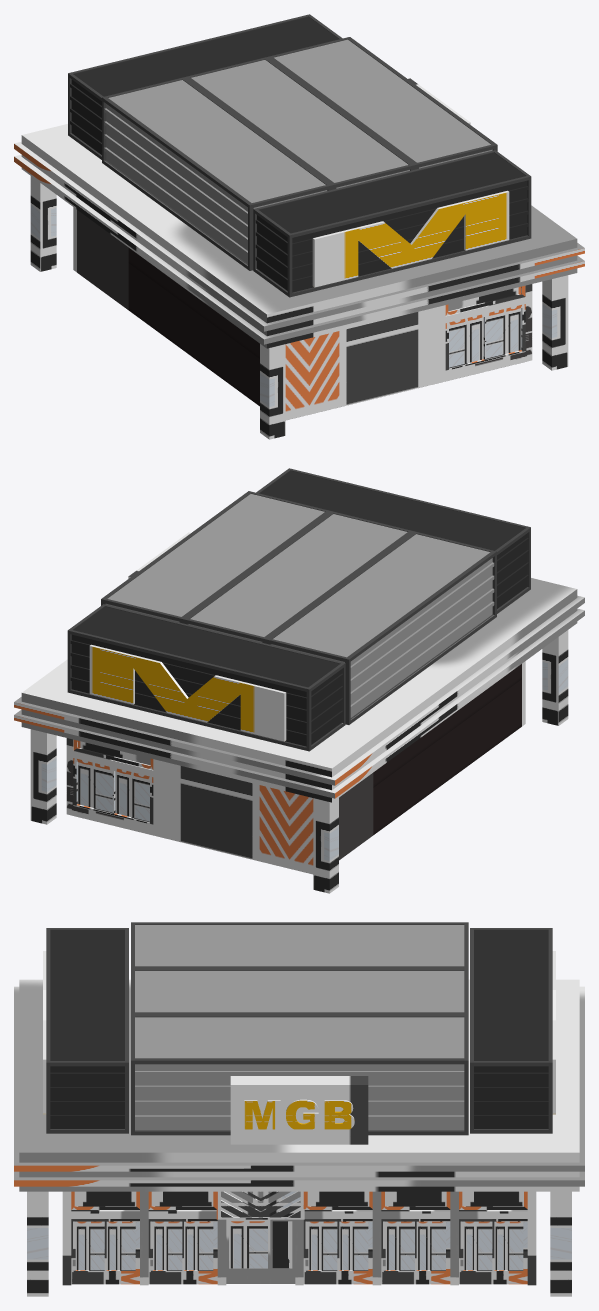
The picture shows the model from 3 angles, top to bottom: view 1: azimuth 30°, elevation 25°; view 2: azimuth 150°, elevation 25°; view 3: azimuth 270°, elevation 25°; orthographic projection. The views are drawn at different scales.
Parts seen in each view (by area): view 1: 貨櫃箱, 屋頂, 左側牆, 造型牆, 室內地板.002; view 2: 貨櫃箱, 屋頂, 右側牆, 造型牆, 室內地板.002; view 3: 貨櫃箱, 屋頂, 正門指示牌.004, 正門口, 正門指示牌.001, 右側牆, 左側牆.
Boxes of the visible parts, x1,y1,x2,y2 form: 貨櫃箱: [68, 14, 531, 297]; 屋頂: [14, 78, 584, 439]; 左側牆: [285, 284, 532, 420]; 造型牆: [128, 248, 259, 406]; 室內地板.002: [77, 210, 128, 309]; 貨櫃箱: [67, 468, 530, 751]; 屋頂: [14, 532, 584, 893]; 右側牆: [66, 738, 313, 874]; 造型牆: [373, 664, 521, 834]; 室內地板.002: [339, 773, 373, 860]; 貨櫃箱: [46, 922, 552, 1135]; 屋頂: [14, 951, 584, 1296]; 正門指示牌.004: [71, 1191, 527, 1285]; 正門口: [226, 1219, 270, 1283]; 正門指示牌.001: [270, 1219, 295, 1283]; 右側牆: [527, 1191, 536, 1285]; 左側牆: [62, 1191, 71, 1285].
Size of the model in its own units: 1966 by 1142 by 2651.
